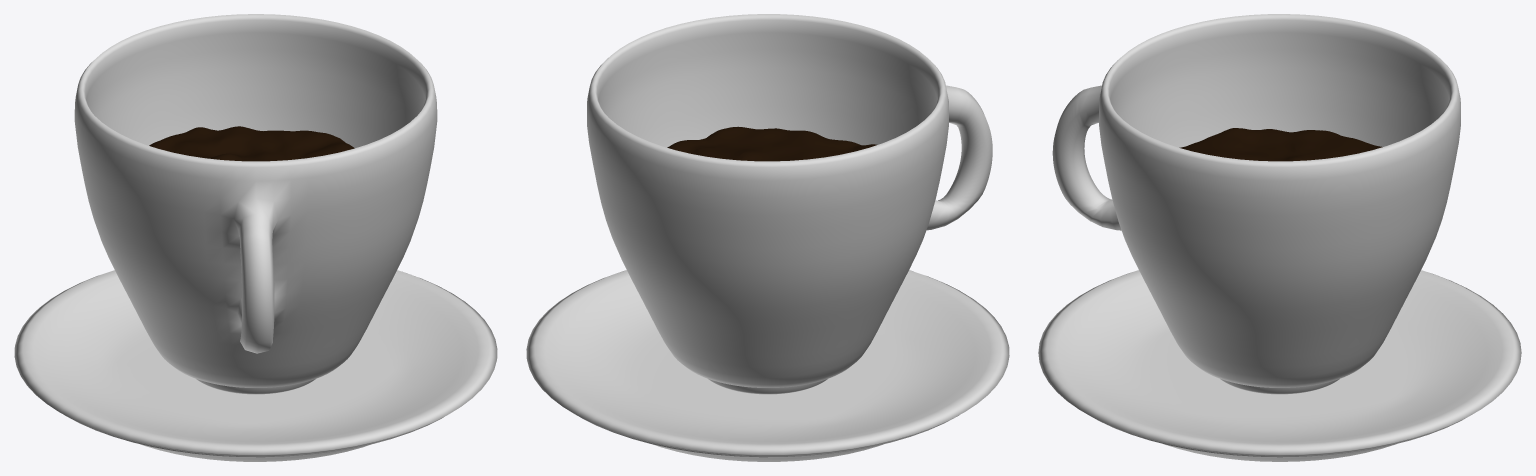
File: coffee_cup__espresso_cup.glb
3 renders of one model, left to right at view 1: azimuth 30°, elevation 25°; view 2: azimuth 150°, elevation 25°; view 3: azimuth 270°, elevation 25°, orthographic.
Parts seen in each view (by area): view 1: Cup_1, Plate_0, Coffee_2; view 2: Cup_1, Plate_0, Coffee_2; view 3: Cup_1, Plate_0, Coffee_2.
Part boxes in pixels (<box>): Cup_1: <box>74,14,437,394</box>; Plate_0: <box>14,270,497,461</box>; Coffee_2: <box>149,126,354,161</box>; Cup_1: <box>587,14,992,394</box>; Plate_0: <box>526,270,1009,461</box>; Coffee_2: <box>667,126,876,161</box>; Cup_1: <box>1052,14,1460,394</box>; Plate_0: <box>1038,270,1521,461</box>; Coffee_2: <box>1179,128,1382,161</box>.
Bounding box in the file's own units: 1.31 × 0.9623 × 1.31.
